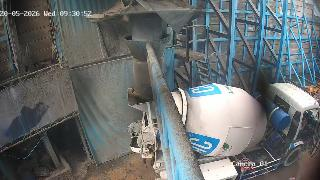cement_mixer_truck: (127, 82, 320, 180)
swing_chute: (124, 35, 170, 101)
